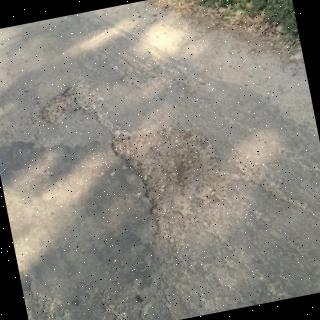pothole: (39, 83, 234, 238)
